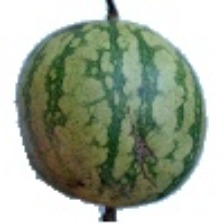watermelon: (27, 41, 178, 212)
